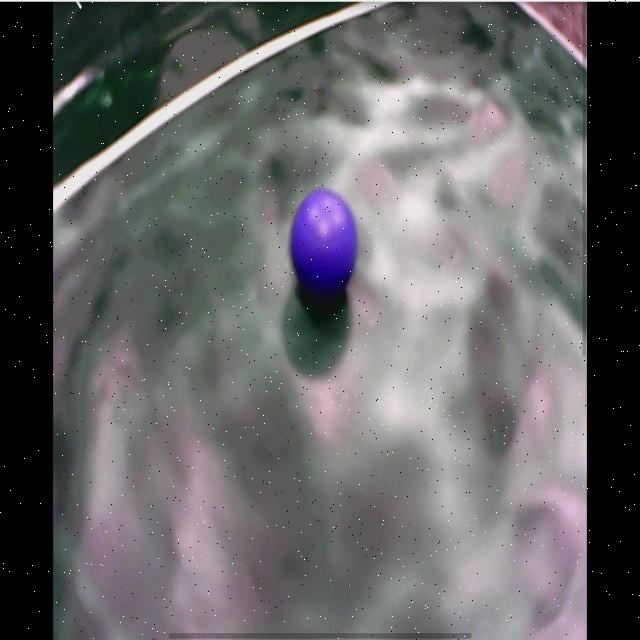ball: (291, 189, 360, 301)
